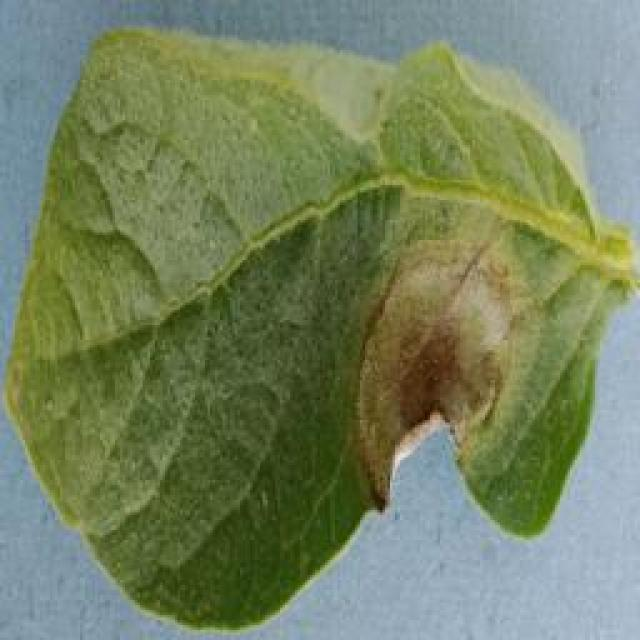Potato_Late_Blight: (12, 31, 620, 629)
